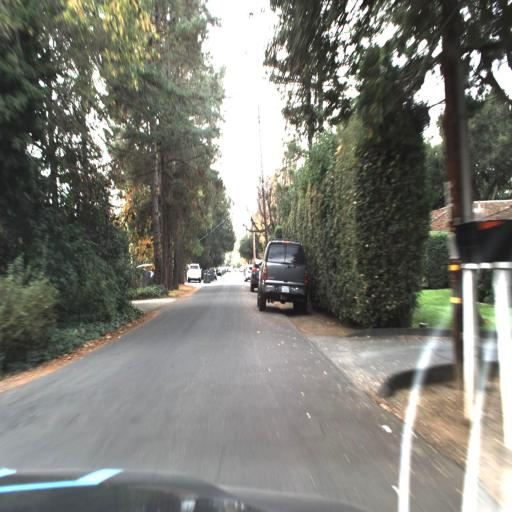car: (254, 237, 308, 321), (185, 256, 202, 285)
